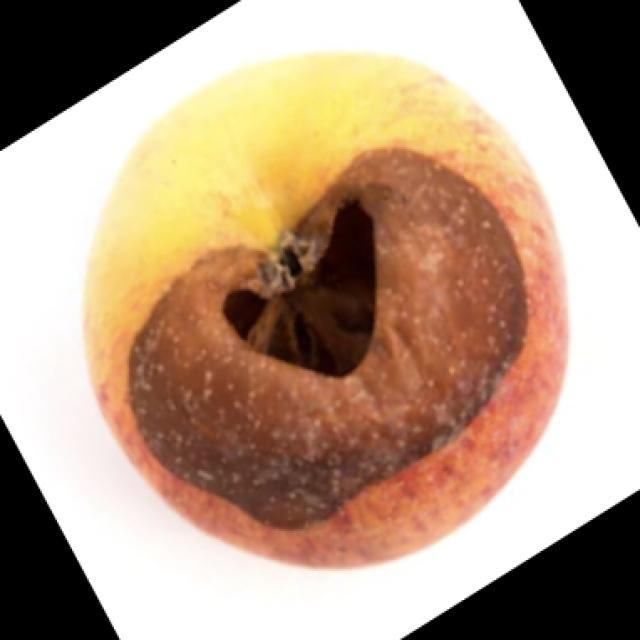Rotten: (105, 65, 590, 577)
